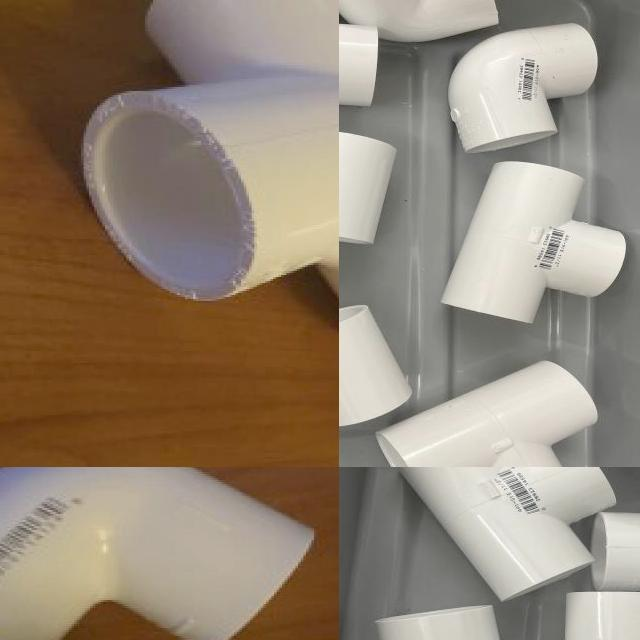L Joint: (449, 27, 598, 153), (591, 513, 640, 591)
T Joint: (439, 162, 628, 326), (393, 467, 617, 603), (375, 361, 598, 467)
